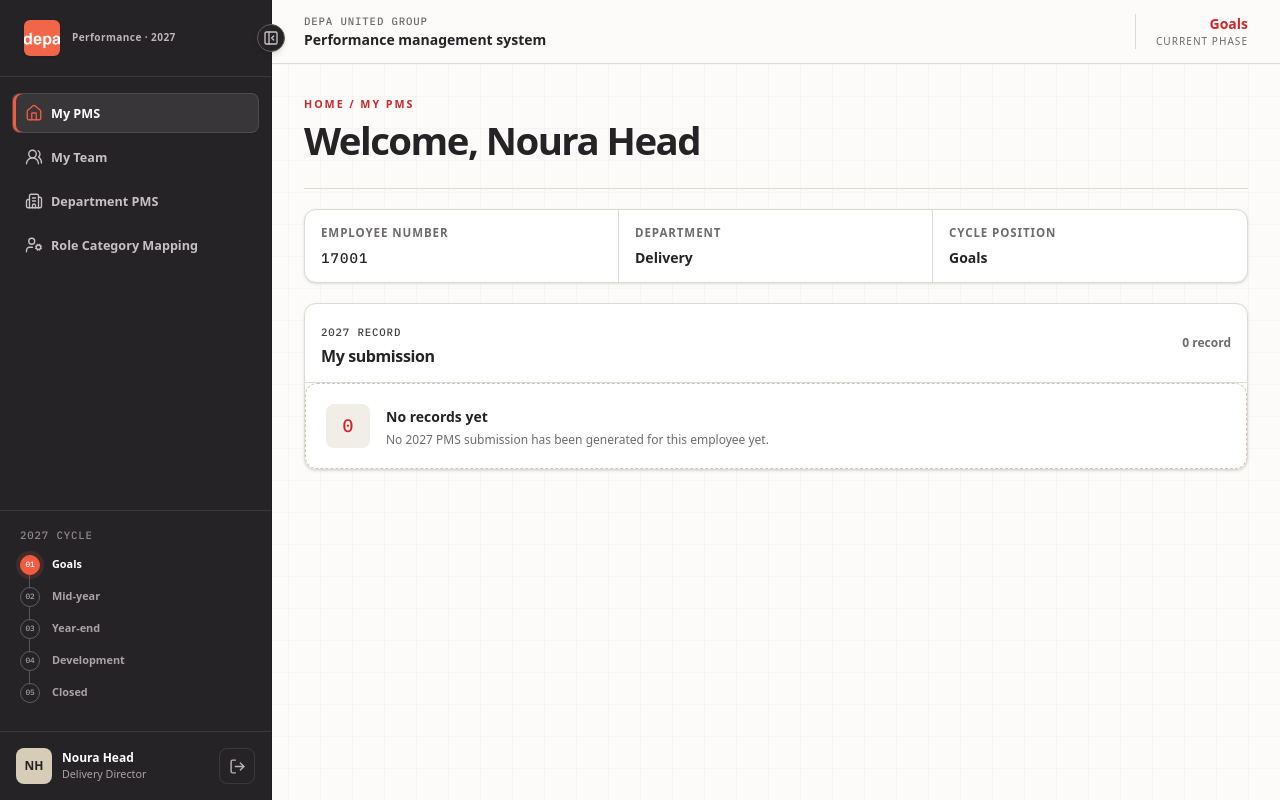
Test case: App › auto-loads the only department for a Department Head mapping worklist
Click the button "Role Category Mapping": (136, 245) [12,225,259,265]
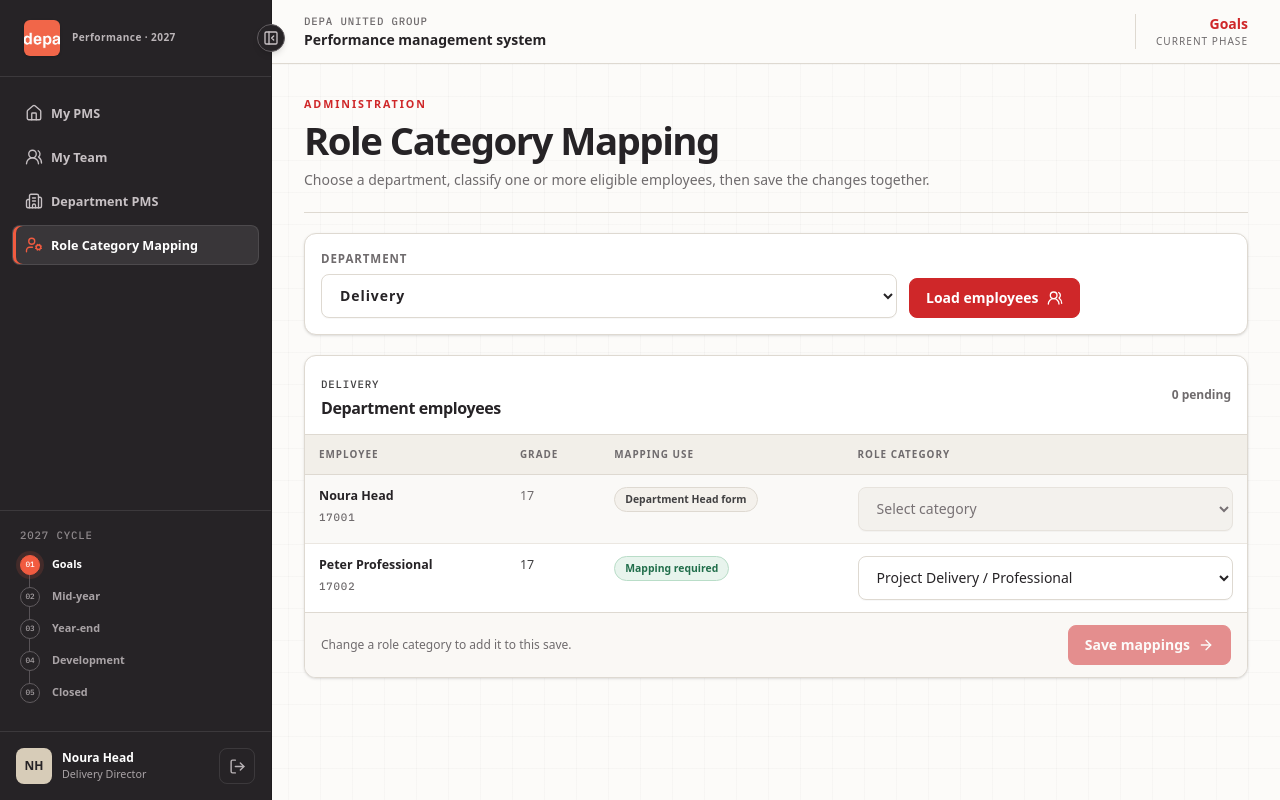
Check: the table shows "Peter Professional", box [319,556,432,572]
Check: the dropdown labelled "Department" shows "Delivery", box [321,274,897,318]
Check: the dropdown named "Role category for Noura Head" is disabled, box [858,486,1233,530]
